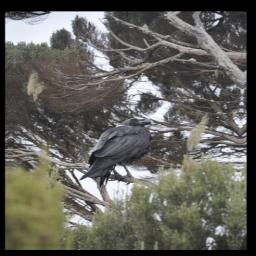Crow: (79, 116, 153, 192)
